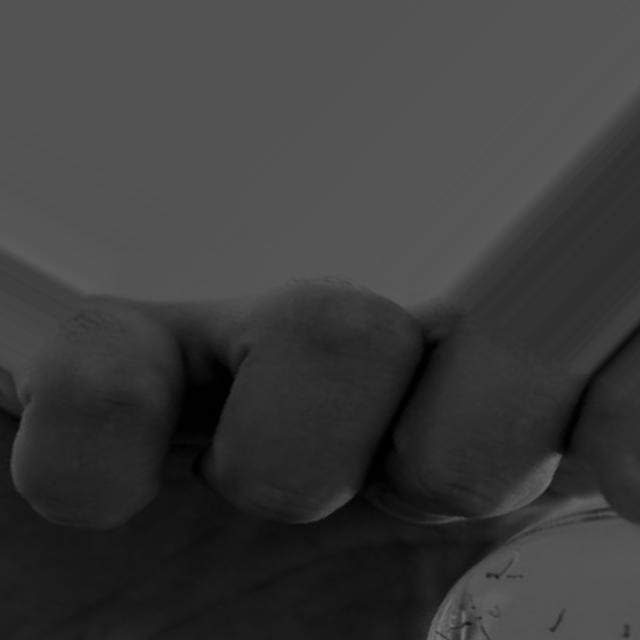larvas: (487, 556, 512, 578), (549, 607, 565, 633), (450, 621, 474, 634), (466, 608, 483, 622), (488, 605, 502, 620), (509, 568, 523, 582), (480, 622, 490, 640), (435, 628, 450, 640)
